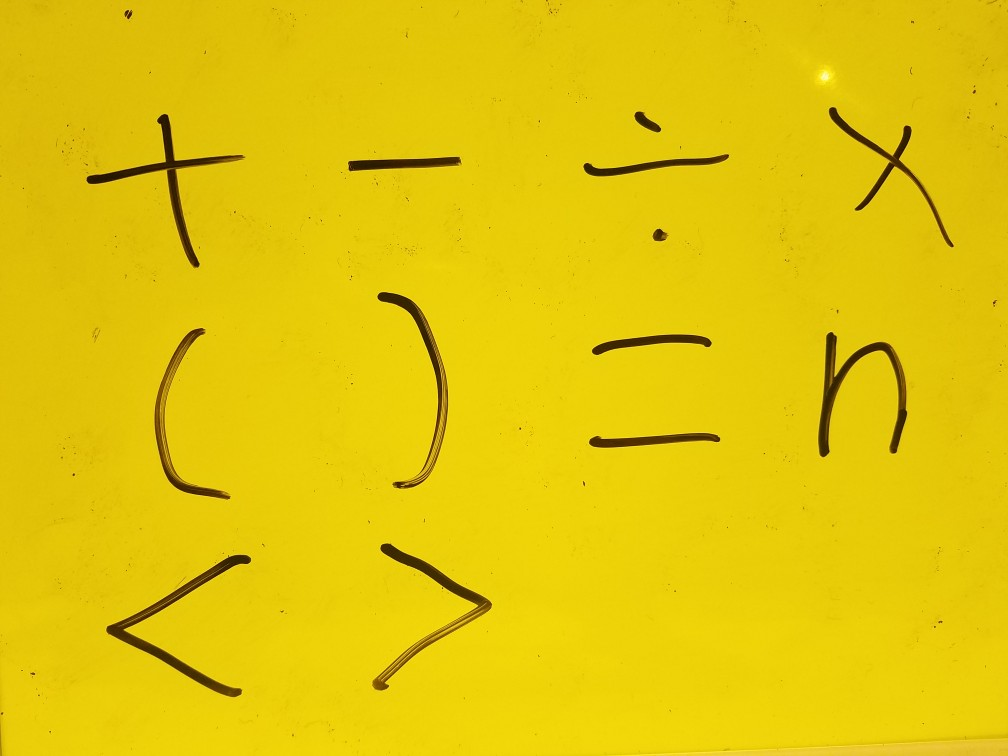(: (107, 315, 259, 511)
): (346, 276, 476, 505)
+: (79, 80, 273, 293)
-: (329, 127, 476, 206)
<: (68, 551, 265, 706)
=: (547, 306, 740, 469)
>: (326, 522, 535, 718)
div: (550, 74, 752, 262)
n: (798, 311, 922, 488)
x: (813, 83, 962, 266)
